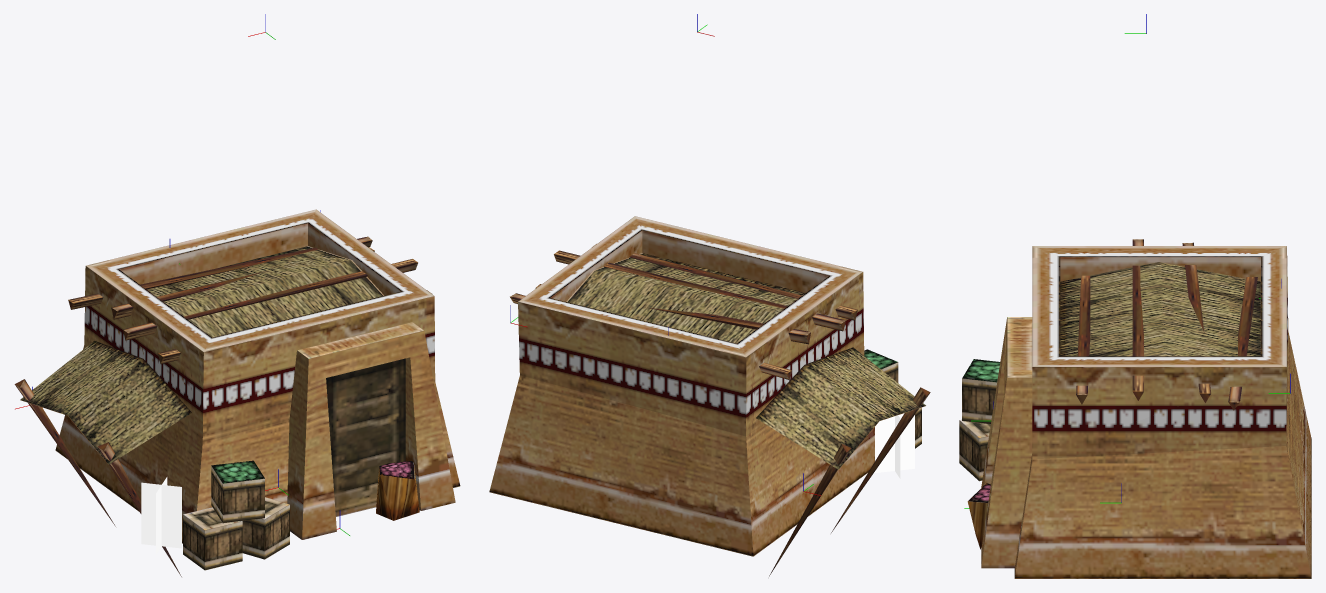
File: egyptian-house-age1.glb
The picture shows the model from 3 angles, left to right: view 1: azimuth 30°, elevation 25°; view 2: azimuth 150°, elevation 25°; view 3: azimuth 270°, elevation 25°; orthographic projection. The views are drawn at different scales.
Visible parts, largest first — view 1: building e housea age1Model; view 2: building e housea age1Model; view 3: building e housea age1Model.
Boxes of the visible parts, x1,y1,x2,y2 form: building e housea age1Model: (14,209,460,576); building e housea age1Model: (489,216,930,576); building e housea age1Model: (959,239,1311,578).
Size of the model in its own units: 4.94 by 7.06 by 4.03.
Materials: 7 (6 with a texture image).
